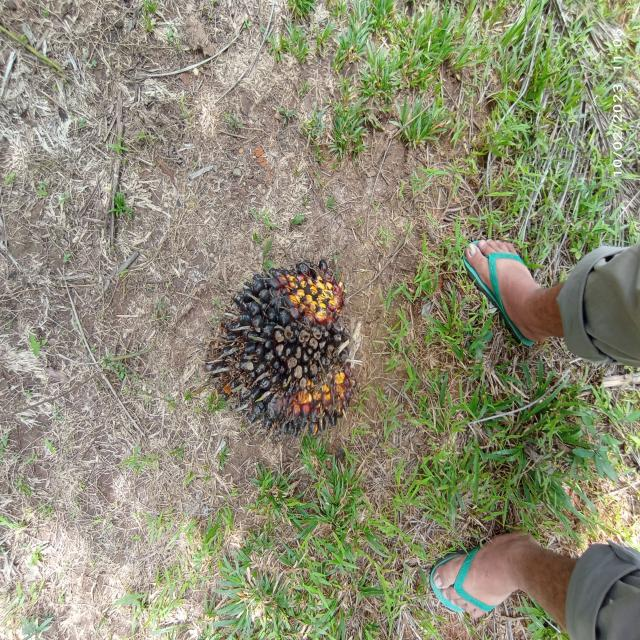fraksi 00: (196, 256, 371, 441)
